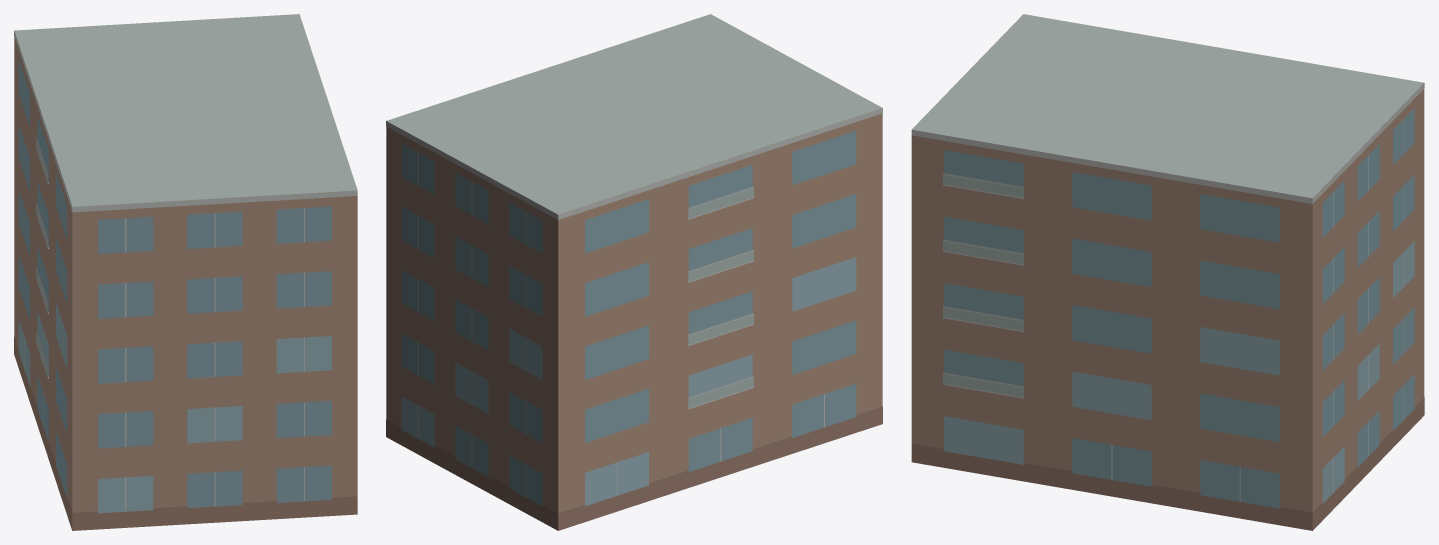
Rendered from survey-upis-32713600.glb.
3 views of the same model, side by side, from view 1: azimuth 30°, elevation 25°; view 2: azimuth 150°, elevation 25°; view 3: azimuth 270°, elevation 25° (orthographic). The views are drawn at different scales.
Parts seen in each view (by area): view 1: survey-upis-32713600.tmp; view 2: survey-upis-32713600.tmp; view 3: survey-upis-32713600.tmp.
Boxes of the visible parts, x1,y1,x2,y2 form: survey-upis-32713600.tmp: (14, 14, 357, 530); survey-upis-32713600.tmp: (386, 14, 882, 530); survey-upis-32713600.tmp: (911, 14, 1424, 530).
Bounding box in the file's own units: 17.07 × 14.35 × 20.07.
